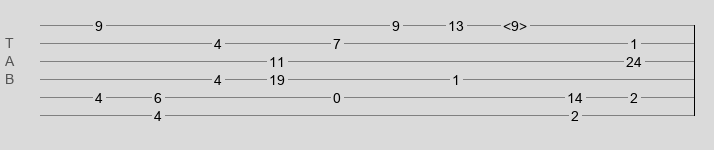0: (333, 90, 341, 100)
1: (452, 72, 460, 82), (630, 36, 638, 46)
11: (269, 54, 285, 64)
13: (448, 18, 464, 28)
14: (567, 90, 583, 100)
19: (269, 72, 285, 82)
2: (571, 108, 579, 118), (630, 90, 638, 100)
24: (626, 54, 642, 64)
4: (95, 90, 103, 100), (154, 108, 162, 118), (214, 36, 222, 46), (214, 72, 222, 82)
6: (154, 90, 162, 100)
7: (333, 36, 341, 46)
9: (95, 18, 103, 28), (392, 18, 400, 28)
harmonic: (503, 18, 527, 28)
